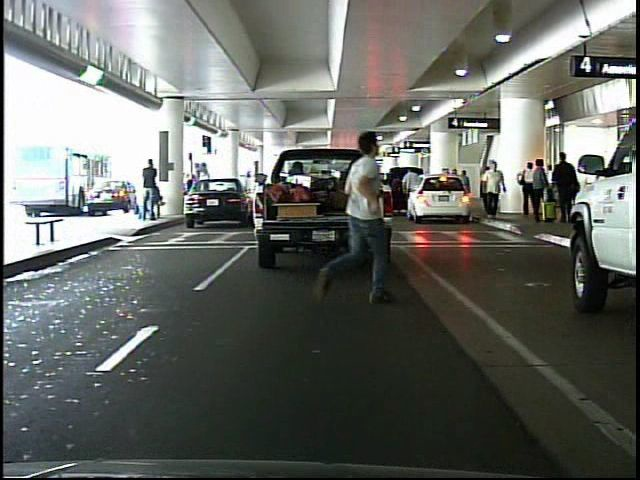person: (313, 121, 398, 322), (479, 157, 510, 227), (553, 149, 580, 225), (517, 156, 540, 221), (143, 159, 166, 221), (532, 158, 553, 225)
